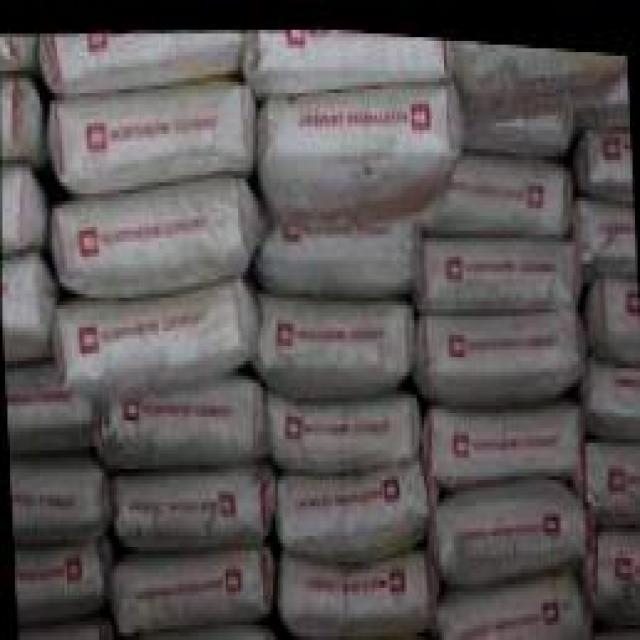gunny_bag: (264, 74, 453, 225), (55, 74, 241, 184), (61, 167, 245, 276), (62, 279, 243, 381), (259, 285, 411, 386), (420, 301, 579, 395), (455, 32, 622, 116), (97, 371, 258, 456), (113, 543, 263, 631), (44, 25, 232, 93), (439, 553, 580, 640), (421, 221, 576, 299), (424, 391, 581, 468), (112, 463, 260, 544), (444, 132, 575, 219), (271, 384, 411, 462), (440, 477, 573, 556), (257, 22, 430, 81), (287, 539, 423, 613), (284, 459, 414, 533), (7, 456, 94, 536), (12, 538, 99, 618), (3, 356, 79, 437), (574, 187, 636, 252), (589, 338, 640, 417), (585, 421, 640, 494), (580, 118, 633, 178), (599, 264, 640, 330), (1, 252, 32, 332), (1, 151, 27, 245), (0, 79, 27, 154)
